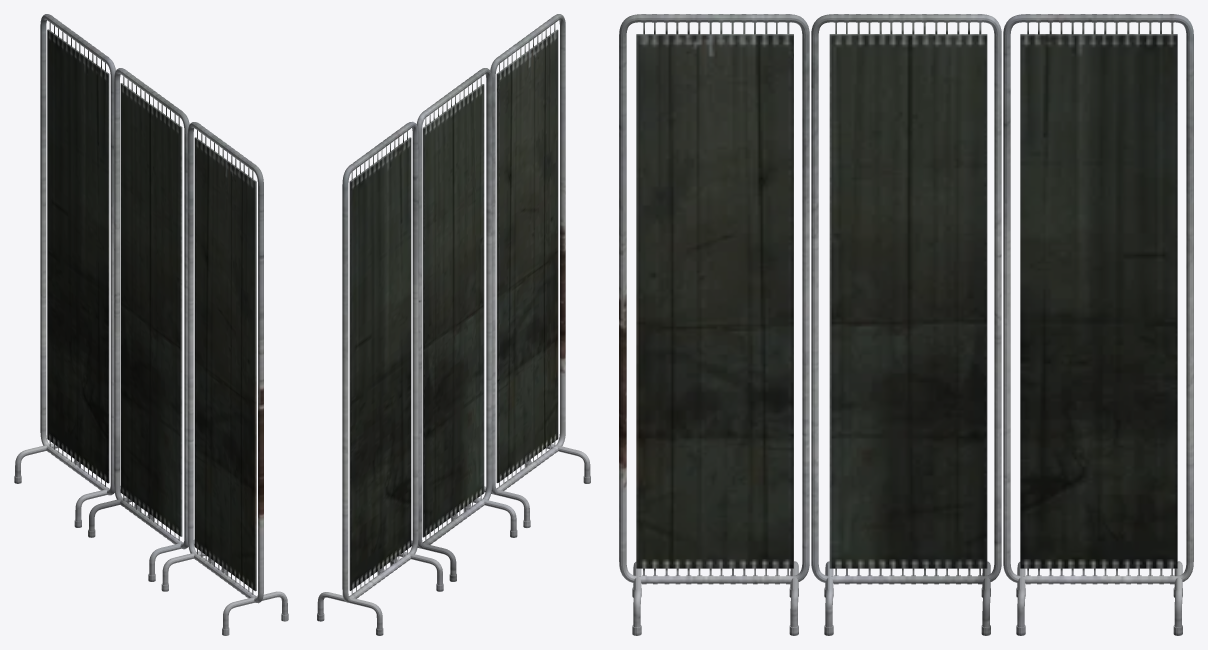
The model's file is curtain.glb.
The picture shows the model from 3 angles, left to right: view 1: azimuth 30°, elevation 25°; view 2: azimuth 150°, elevation 25°; view 3: azimuth 270°, elevation 25°; orthographic projection. The views are drawn at different scales.
Visible parts, largest first — view 1: Object_2; view 2: Object_2; view 3: Object_2.
Part boxes in pixels (x1,y1,x2,y2): Object_2: (14, 14, 288, 635); Object_2: (317, 14, 590, 635); Object_2: (619, 14, 1193, 635).
Size of the model in its own units: 0.5132 by 3.45 by 2.99.
Materials: 1 (1 with a texture image).
